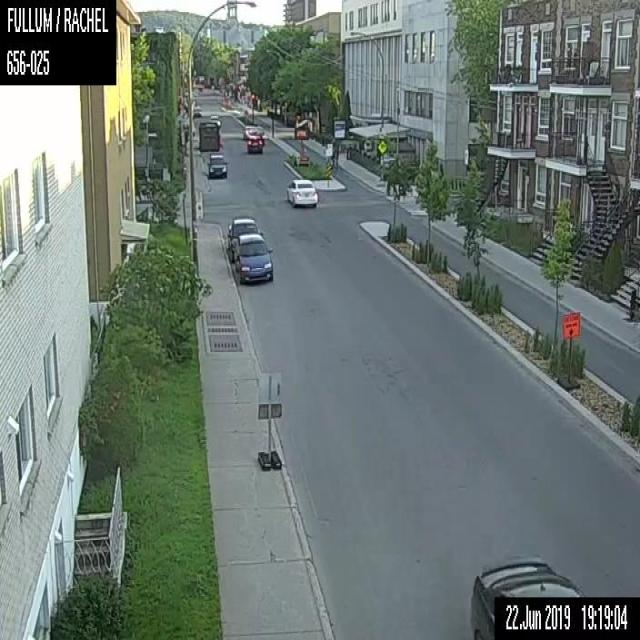construction: (293, 126, 308, 164), (562, 311, 580, 338)
vehicle: (469, 552, 587, 639), (233, 233, 273, 284), (226, 216, 264, 262), (286, 179, 316, 206), (206, 152, 227, 177), (246, 135, 262, 152), (242, 125, 258, 137), (210, 114, 220, 127), (192, 106, 202, 117)
